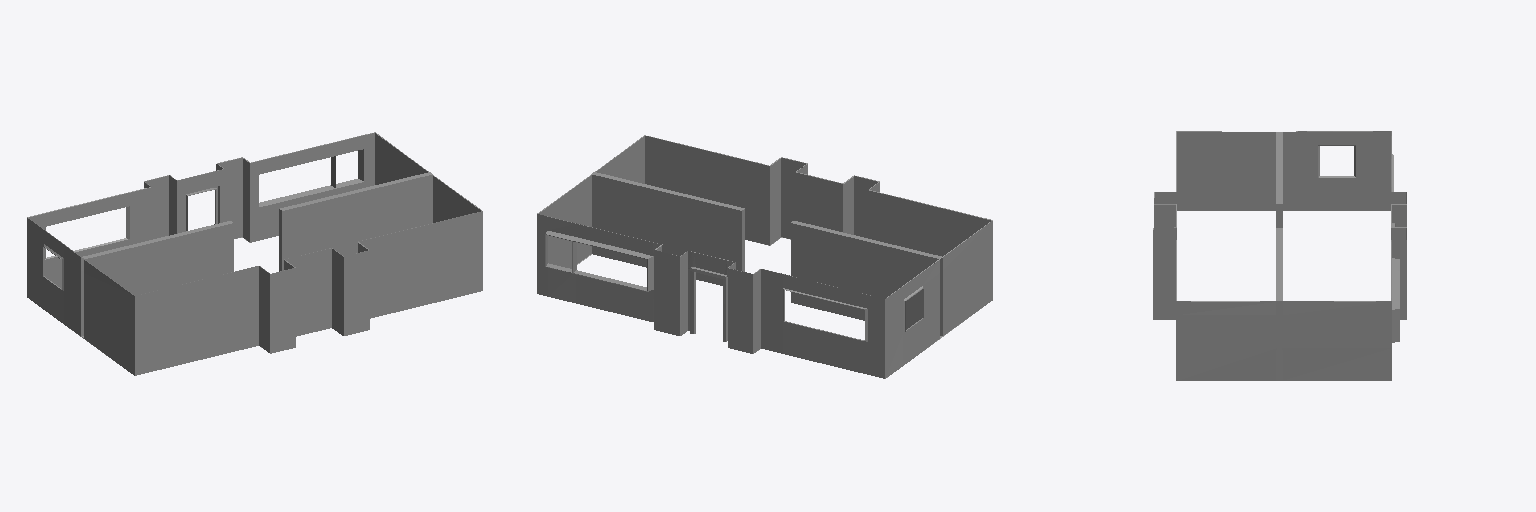
The model's file is walls.obj.
The picture shows the model from 3 angles: view 1: azimuth 30°, elevation 25°; view 2: azimuth 150°, elevation 25°; view 3: azimuth 270°, elevation 25°; orthographic projection.
Parts seen in each view (by area): view 1: walls_Plane.004; view 2: walls_Plane.004; view 3: walls_Plane.004.
Boxes of the visible parts, x1,y1,x2,y2 form: walls_Plane.004: [27, 132, 482, 375]; walls_Plane.004: [537, 135, 992, 378]; walls_Plane.004: [1153, 131, 1406, 380].
Bounding box in the file's own units: 9.91 × 2.17 × 6.23.